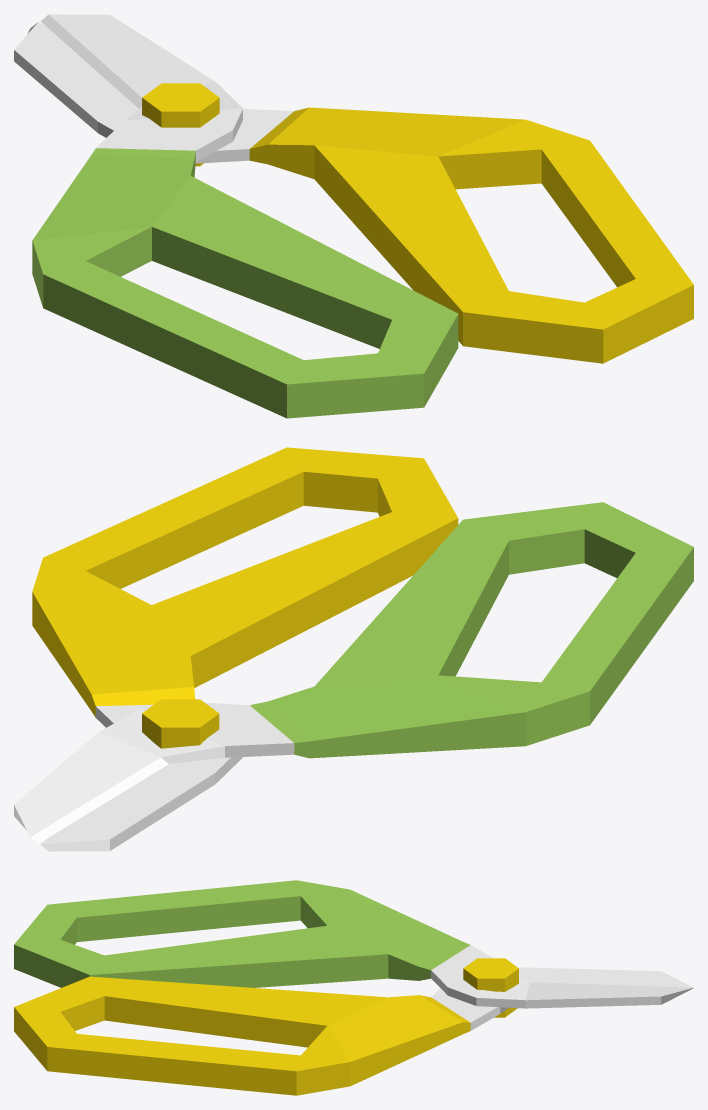
File: Flower Scissors.fbx
3 views of the same model, one above another, from view 1: azimuth 30°, elevation 25°; view 2: azimuth 150°, elevation 25°; view 3: azimuth 270°, elevation 25° (orthographic). The views are drawn at different scales.
Visible parts, largest first — view 1: Flower Scissors.001; view 2: Flower Scissors.001; view 3: Flower Scissors.001.
Boxes of the visible parts, bbox=[...] form: Flower Scissors.001: bbox=[14, 14, 693, 418]; Flower Scissors.001: bbox=[14, 447, 693, 851]; Flower Scissors.001: bbox=[14, 880, 693, 1095].
Size of the model in its own units: 0.2956 by 0.0281 by 0.4441.
